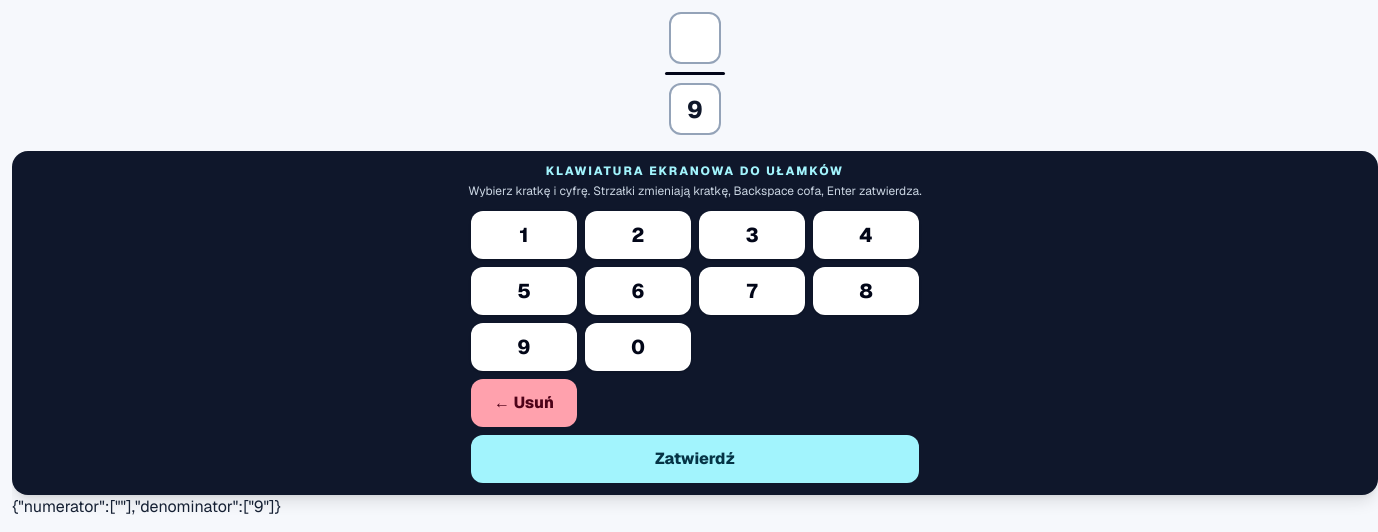
FractionStackInput — klawiatura, dotyk i semantyka › pozwala zablokować podany mianownik i wpisywać tylko brakujący licznik
Click the button "3". click: (752, 235)
box: [699, 211, 805, 259]
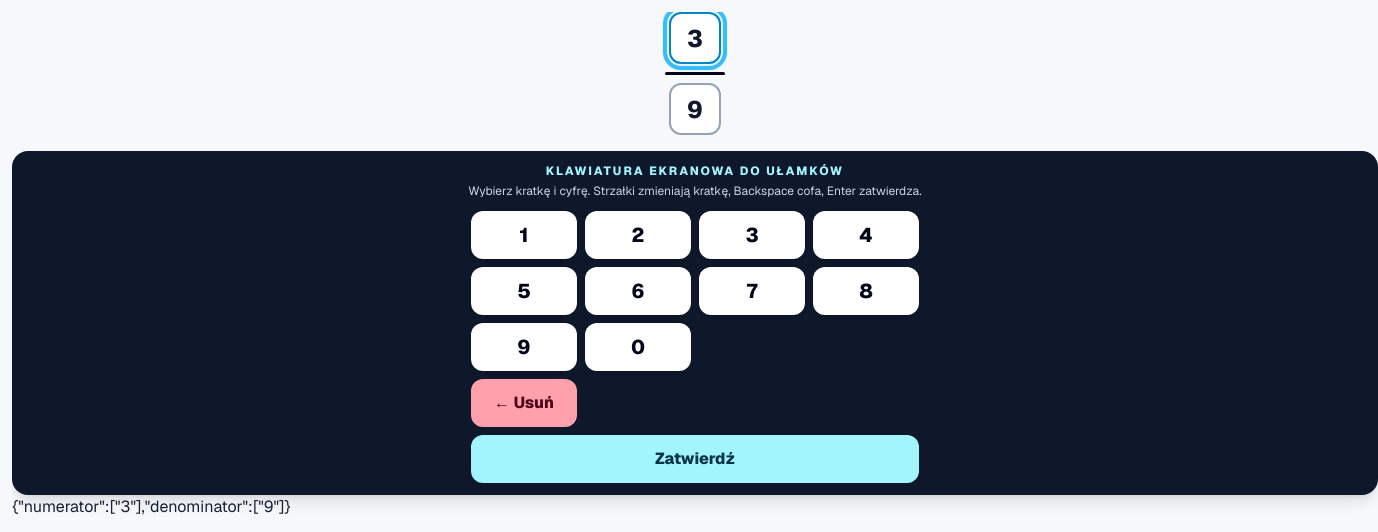
Expected: the field named "mianownik, cyfra 1 z 1" holds "9", [669, 83, 721, 135]
Result: the field named "licznik, cyfra 1 z 1" holds "3" at [669, 12, 721, 64]
